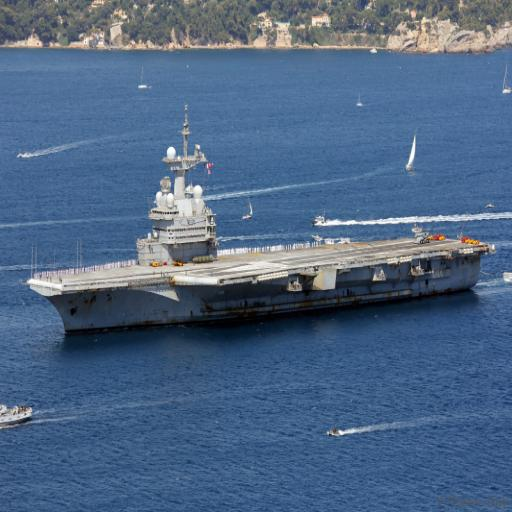Portanaves: (25, 94, 496, 344)
